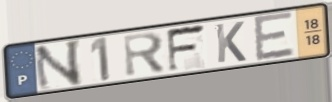1: (89, 35, 113, 84)
E: (252, 10, 297, 64)
F: (164, 22, 209, 75)
K: (213, 20, 248, 65)
N: (31, 37, 84, 94)
R: (121, 30, 168, 80)
